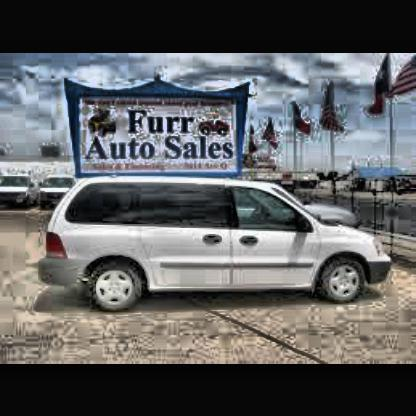Ford Freestar Minivan 2007: (43, 178, 394, 311)
